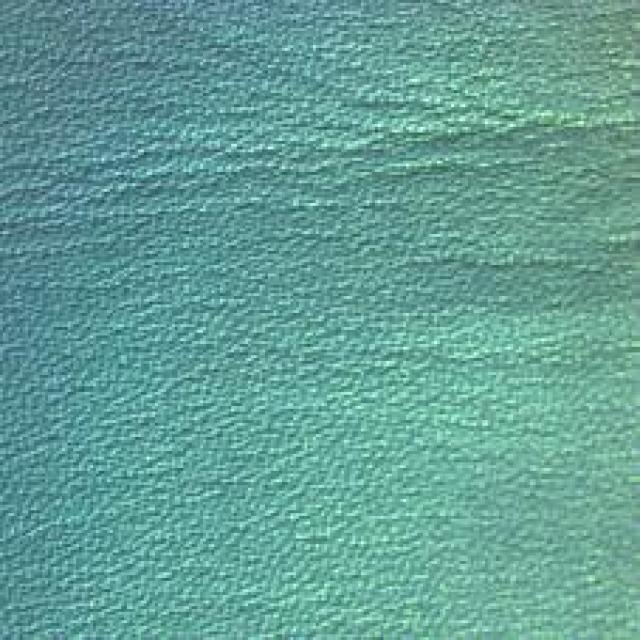Growth Marks: (286, 75, 590, 209), (41, 100, 212, 250)
